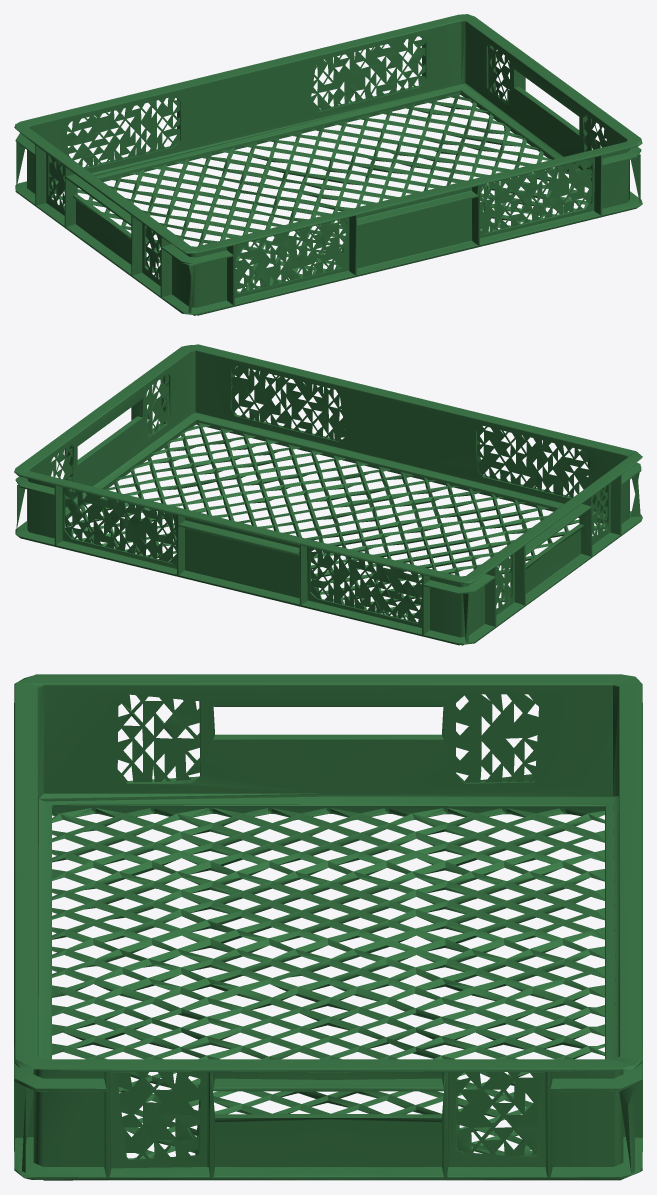
The model's file is tote_green.glb.
The picture shows the model from 3 angles, top to bottom: view 1: azimuth 30°, elevation 25°; view 2: azimuth 150°, elevation 25°; view 3: azimuth 270°, elevation 25°; orthographic projection. The views are drawn at different scales.
Visible parts, largest first — view 1: tote_green_mesh; view 2: tote_green_mesh; view 3: tote_green_mesh.
Part boxes in pixels (x1,y1,x2,y2): tote_green_mesh: [14, 14, 642, 315]; tote_green_mesh: [14, 344, 642, 645]; tote_green_mesh: [14, 674, 642, 1180].
Bounding box in the file's own units: 0.6117 × 0.0903 × 0.4116.
